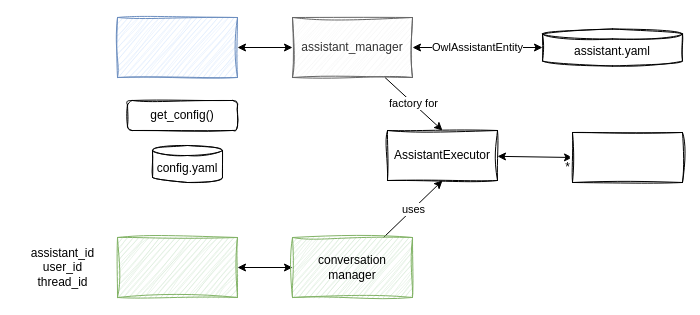
The diagram is 700 pixels wide and 315 high, and some of its shapes have lost their labels. Each missing label, with the centre of its shape:
AgentExecutor: the point at 627,157
assistants API: the point at 177,47
conversation API: the point at 177,267
